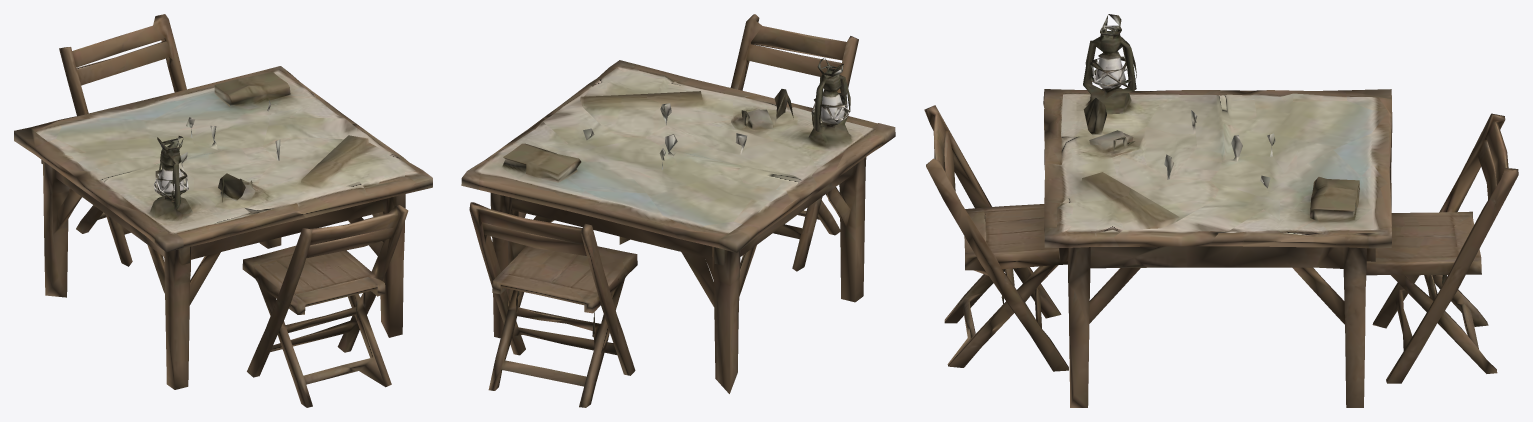
File: prop_map_table.glb
The picture shows the model from 3 angles, left to right: view 1: azimuth 30°, elevation 25°; view 2: azimuth 150°, elevation 25°; view 3: azimuth 270°, elevation 25°; orthographic projection. The views are drawn at different scales.
Visible parts, largest first — view 1: tripo_node_19e3a400-83aa-4254-b88b-9bacb9ffefac; view 2: tripo_node_19e3a400-83aa-4254-b88b-9bacb9ffefac; view 3: tripo_node_19e3a400-83aa-4254-b88b-9bacb9ffefac.
Part boxes in pixels (x1,y1,x2,y2): tripo_node_19e3a400-83aa-4254-b88b-9bacb9ffefac: (14, 14, 432, 407); tripo_node_19e3a400-83aa-4254-b88b-9bacb9ffefac: (461, 14, 895, 407); tripo_node_19e3a400-83aa-4254-b88b-9bacb9ffefac: (924, 14, 1518, 407).
Size of the model in its own units: 0.5911 by 0.4995 by 1.
Materials: 1 (1 with a texture image).
